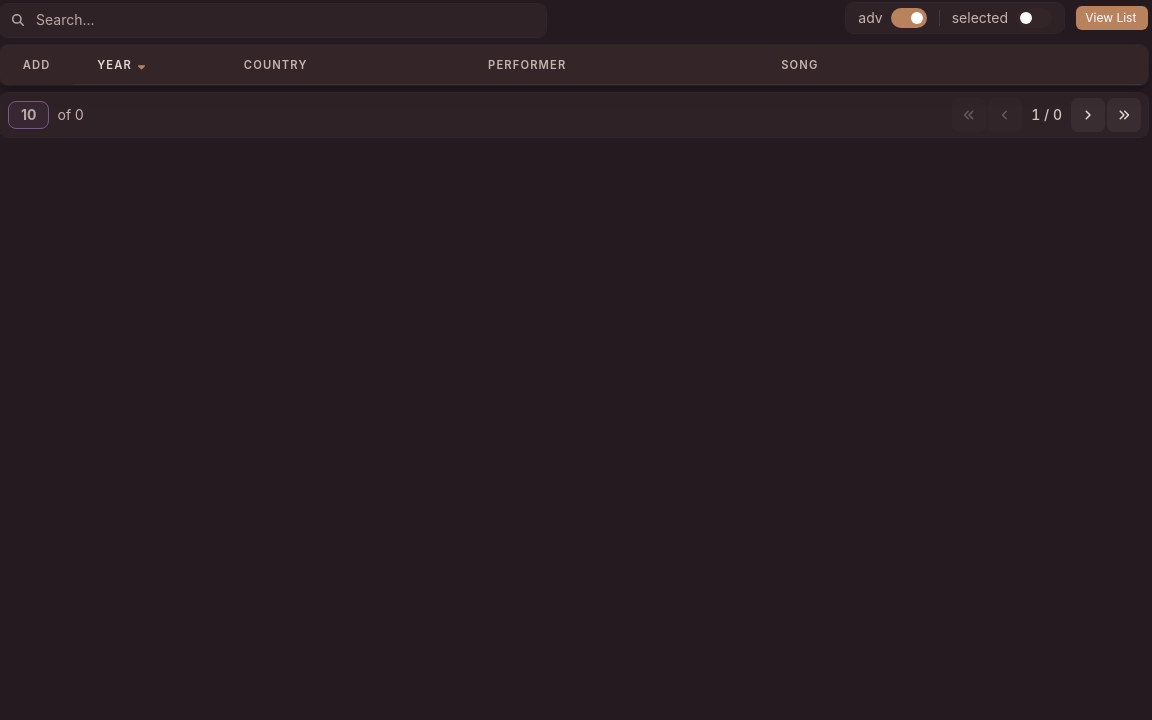
Test case: turning it off with a ranking spanning several contests › warns that the ranking cannot be kept
Click the switch next to "adv": click(909, 18) [891, 8, 927, 28]
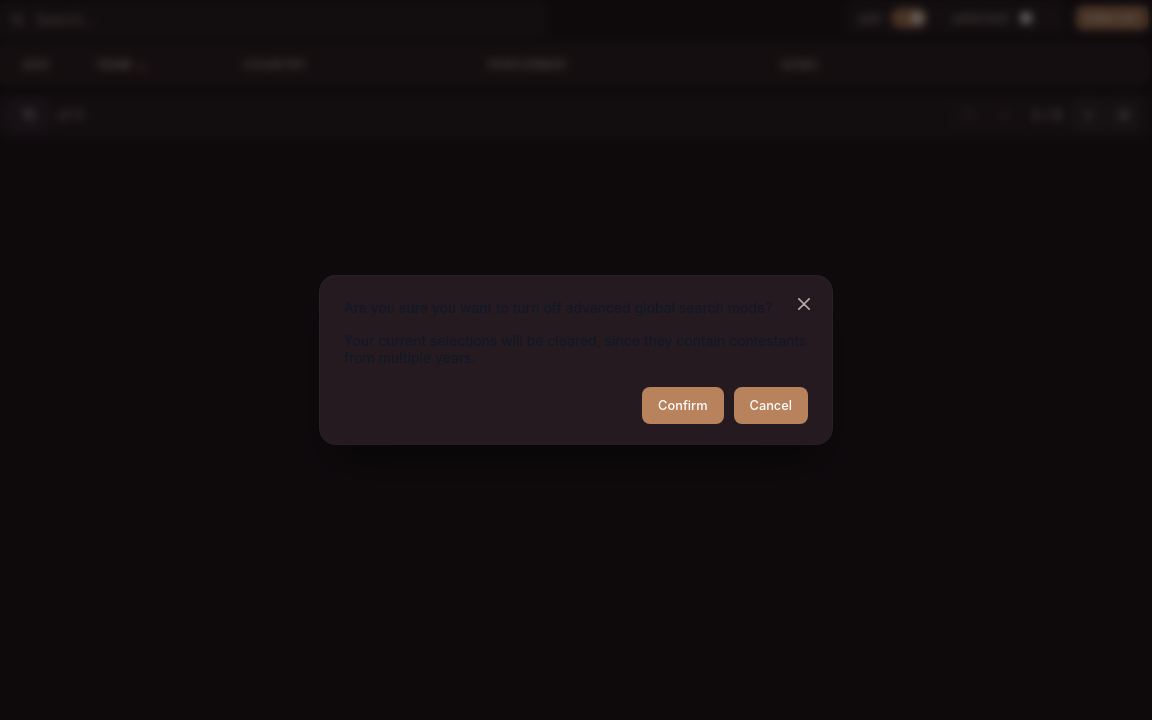
Expected: the text "Your current selections will be cleared" is shown, [344, 299, 806, 366]
